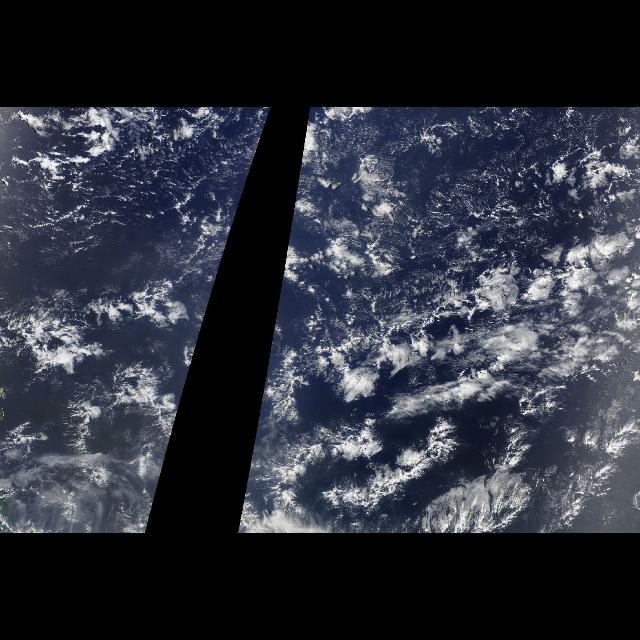Fish: (274, 380, 546, 530), (4, 280, 198, 420)
Gravel: (337, 205, 635, 425), (5, 108, 259, 268), (9, 290, 190, 376)
Sugar: (332, 126, 568, 290)
